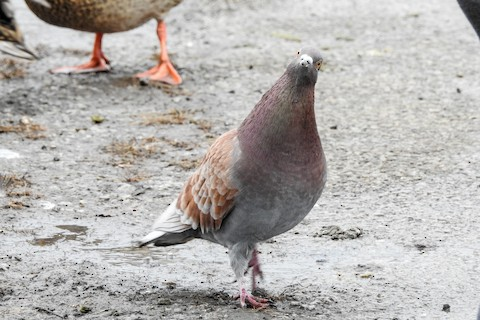pigeon: (138, 44, 335, 307)
